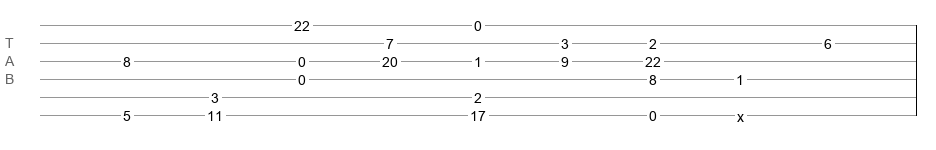0: (298, 54, 306, 64), (298, 72, 306, 82), (474, 18, 482, 28), (649, 108, 657, 118)
1: (474, 54, 482, 64), (736, 72, 744, 82)
11: (207, 108, 223, 118)
17: (470, 108, 486, 118)
2: (474, 90, 482, 100), (649, 36, 657, 46)
20: (382, 54, 398, 64)
22: (294, 18, 310, 28), (645, 54, 661, 64)
3: (211, 90, 219, 100), (561, 36, 569, 46)
5: (123, 108, 131, 118)
6: (824, 36, 832, 46)
7: (386, 36, 394, 46)
8: (123, 54, 131, 64), (649, 72, 657, 82)
9: (561, 54, 569, 64)
x: (737, 109, 744, 117)
